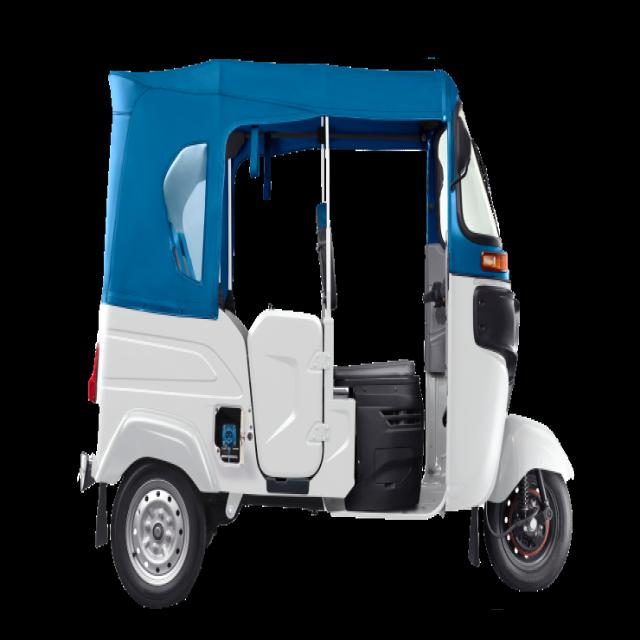autorickshaw: (79, 60, 574, 609)
